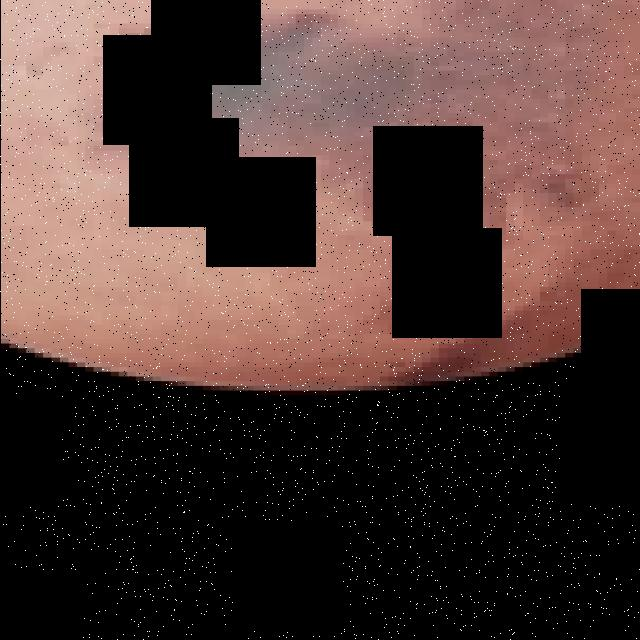Mars: (0, 0, 640, 396)
